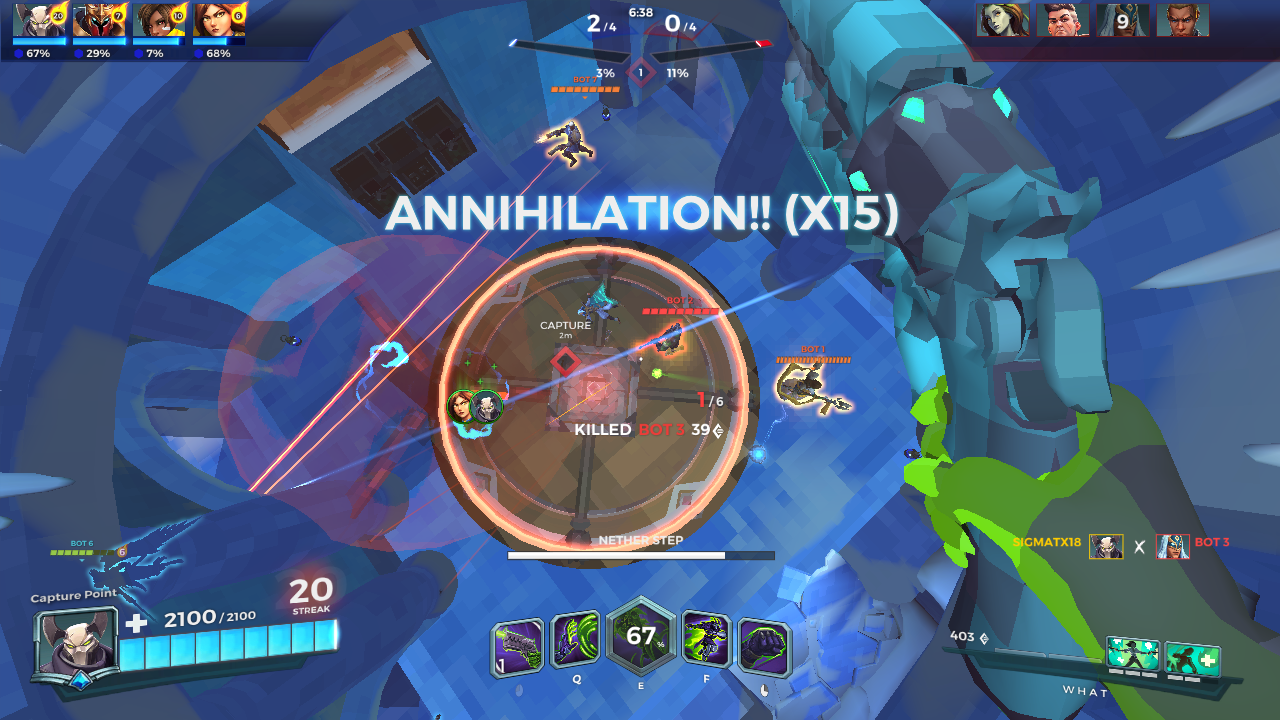model: (782, 364, 840, 411), (545, 117, 598, 166), (651, 319, 690, 362)
